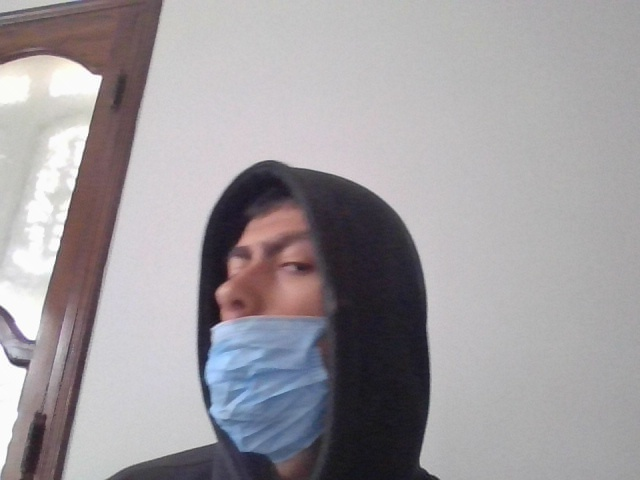mask_weared_incorrect: (170, 193, 349, 465)
